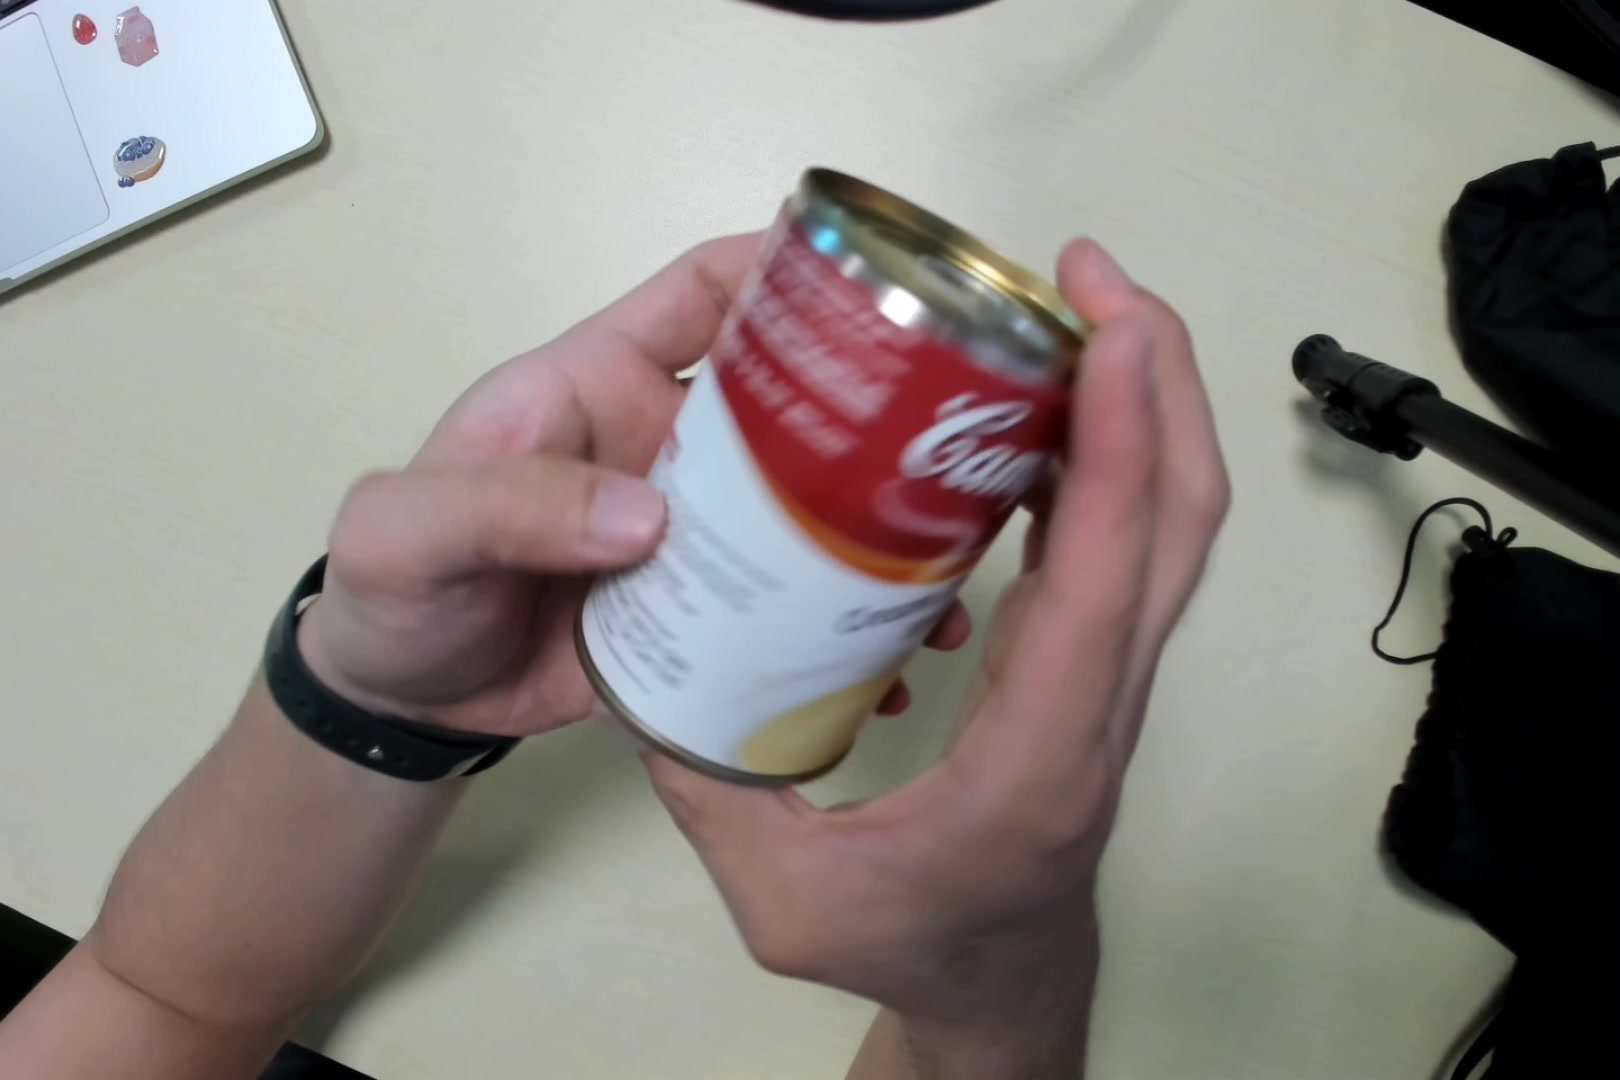CannedSoup_300-399g_Halal_NonHealthy: (563, 169, 1086, 791)
